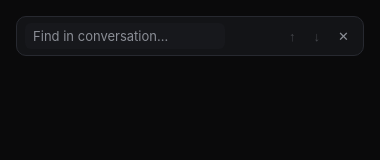
Test case: FindBar › cycles the active match with Enter (forward) and Shift+Enter (back), wrapping
Type "x" into the field labelled "Find in conversation".
click(125, 36); type("x")  # box x1=25 y1=23 x2=225 y2=49
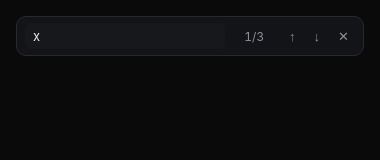
Expected: the text "1/3" is shown, x1=244 y1=28 x2=264 y2=44
Press Enter in the field named "Find in conversation", box x1=25 y1=23 x2=225 y2=49
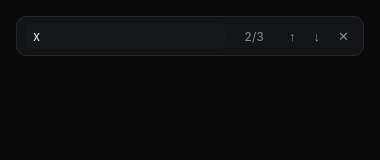
Expected: the text "2/3" is shown, x1=244 y1=28 x2=264 y2=44
Press Enter in the field named "Find in conversation", box x1=25 y1=23 x2=225 y2=49
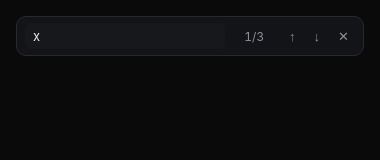
Expected: the text "1/3" is shown, x1=244 y1=28 x2=264 y2=44
# Back once more wraps to the last match.
Press Enter in the field named "Find in conversation", box x1=25 y1=23 x2=225 y2=49
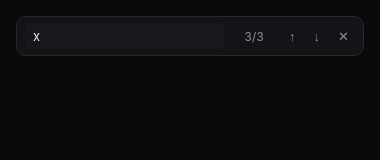
Expected: the text "3/3" is shown, x1=244 y1=28 x2=264 y2=44
